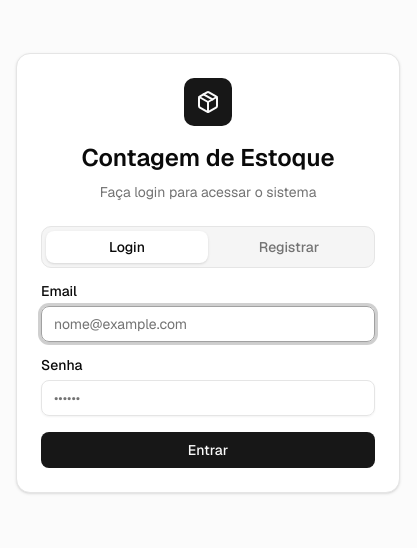
Test: LoginPage › deve alternar para aba de registro ao clicar em "Registrar"
Step 1. Click the button "Registrar" → click(289, 247), box [208,231,370,263]
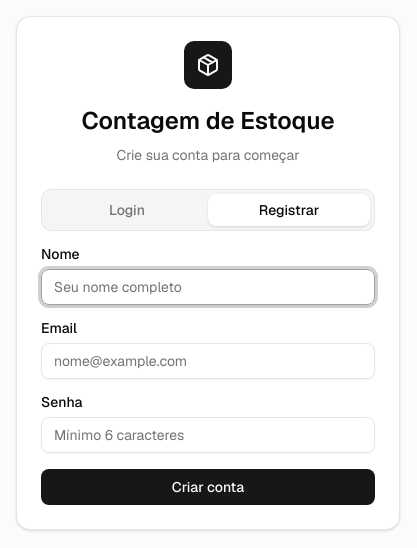
Expected: the field labelled "Nome" is shown, [41,269,375,305]
Result: the text "Crie sua conta para começar" is shown at [116,146,300,164]
Result: the button "Criar conta" is shown at [41,469,375,505]
